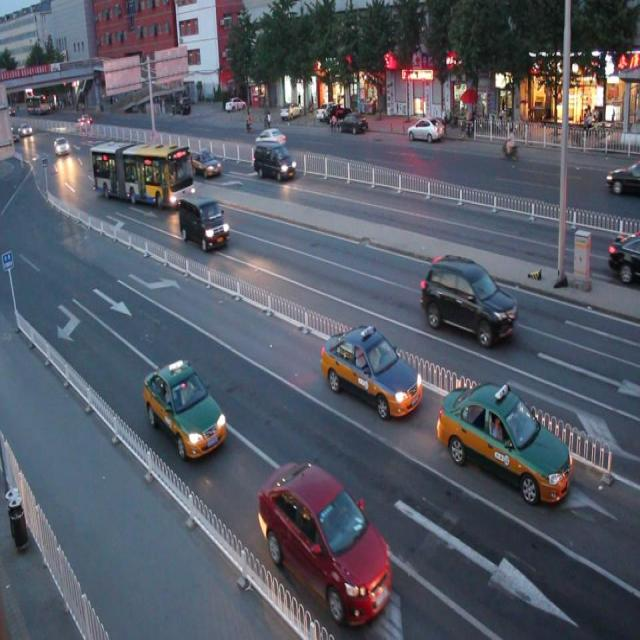car: (260, 459, 393, 623), (437, 380, 572, 501), (318, 324, 422, 417), (422, 252, 518, 347), (143, 361, 227, 457), (605, 226, 640, 278), (603, 157, 640, 197), (191, 147, 224, 175), (253, 126, 287, 146)
truck: (178, 189, 229, 251), (254, 140, 297, 182)
van: (90, 138, 194, 206)
